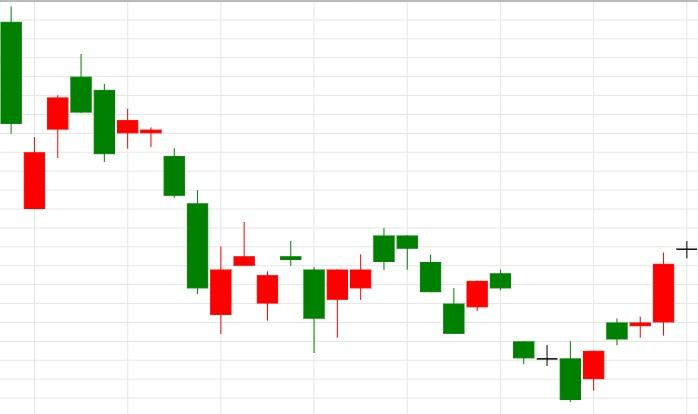three_black_crows_fall: (302, 227, 466, 352)
